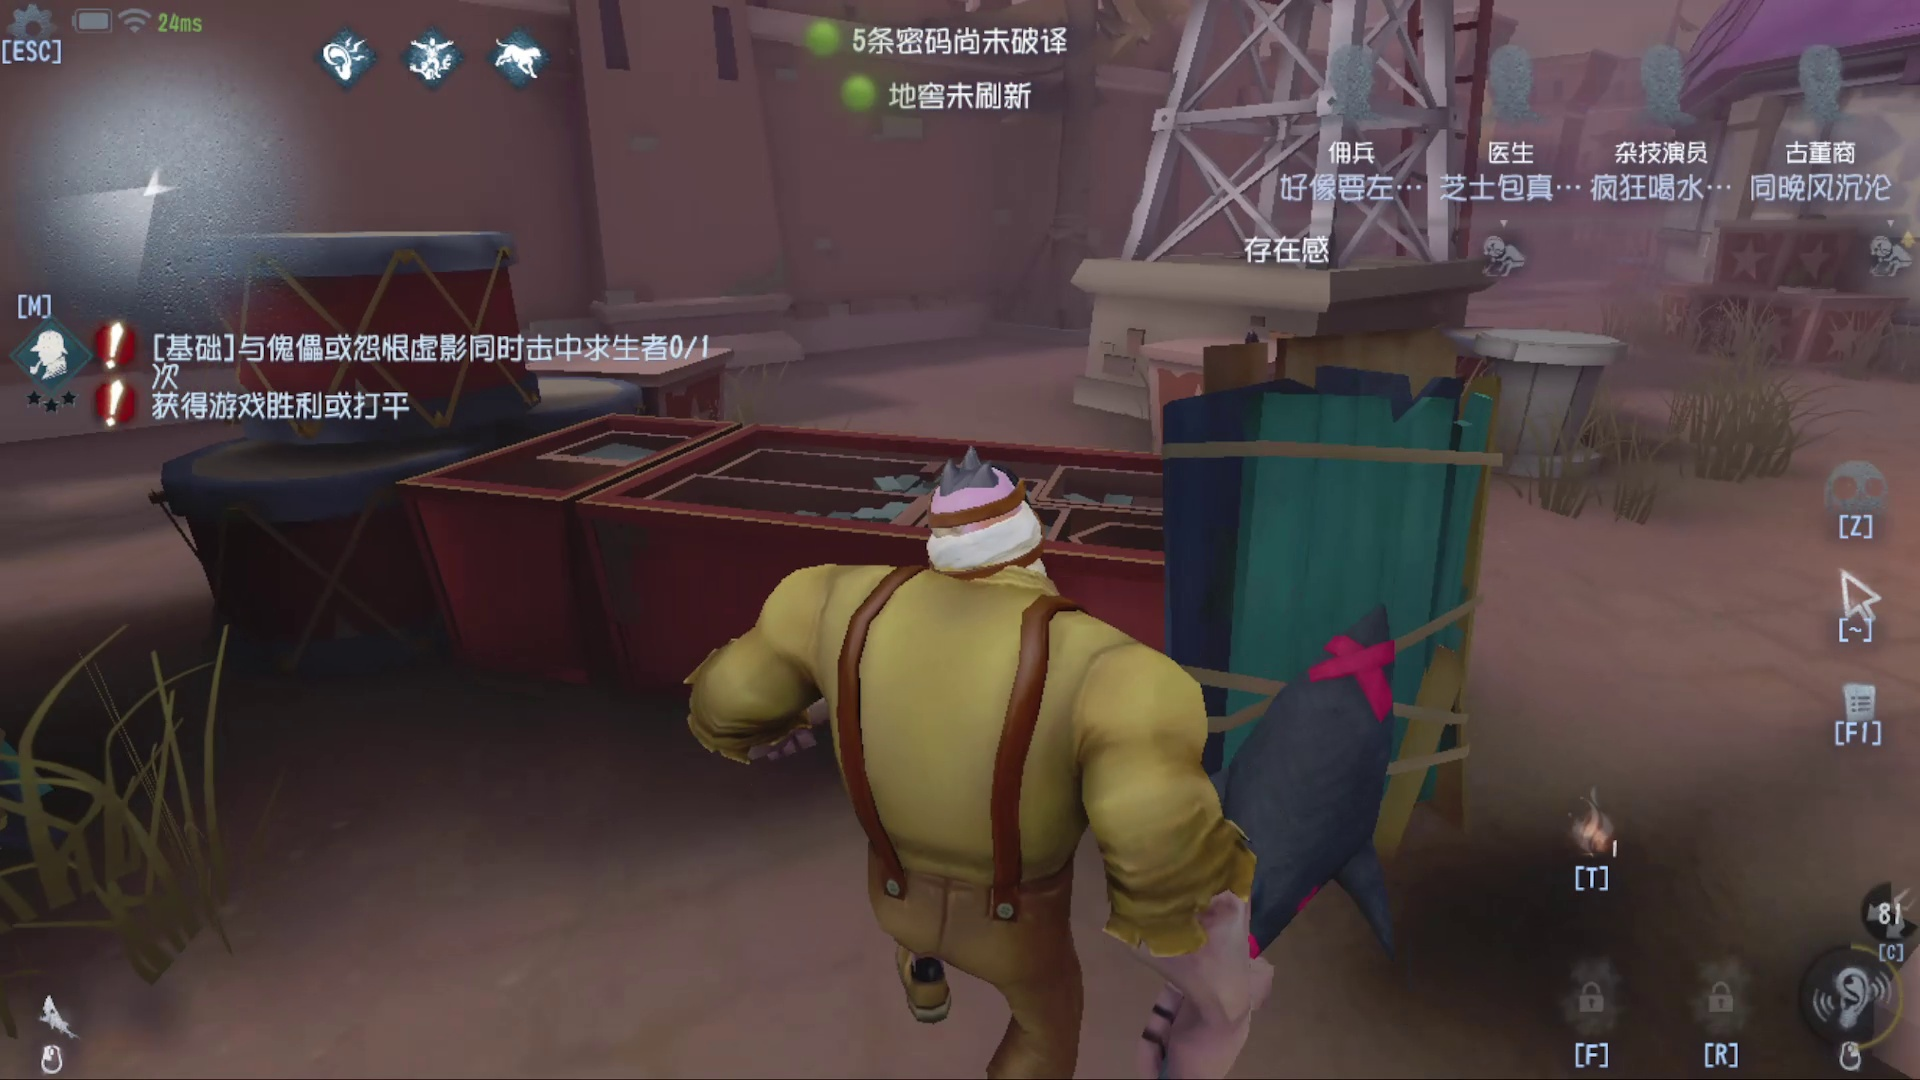木板: (1139, 327, 1538, 910)
